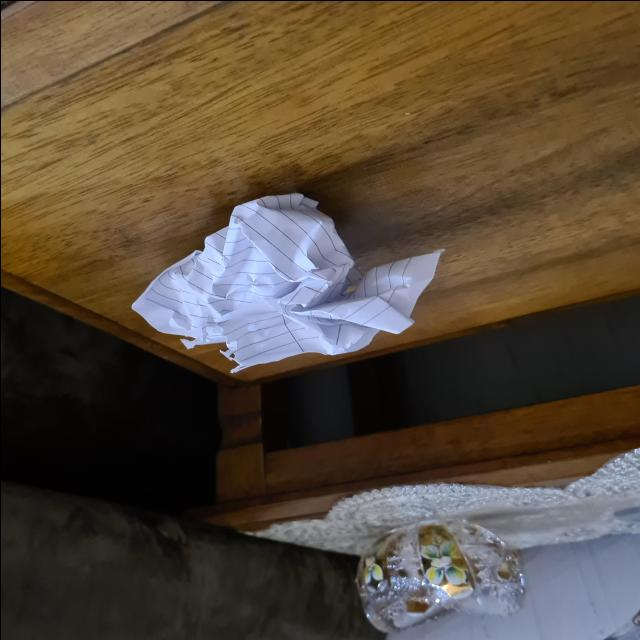kertas: (138, 190, 424, 368)
